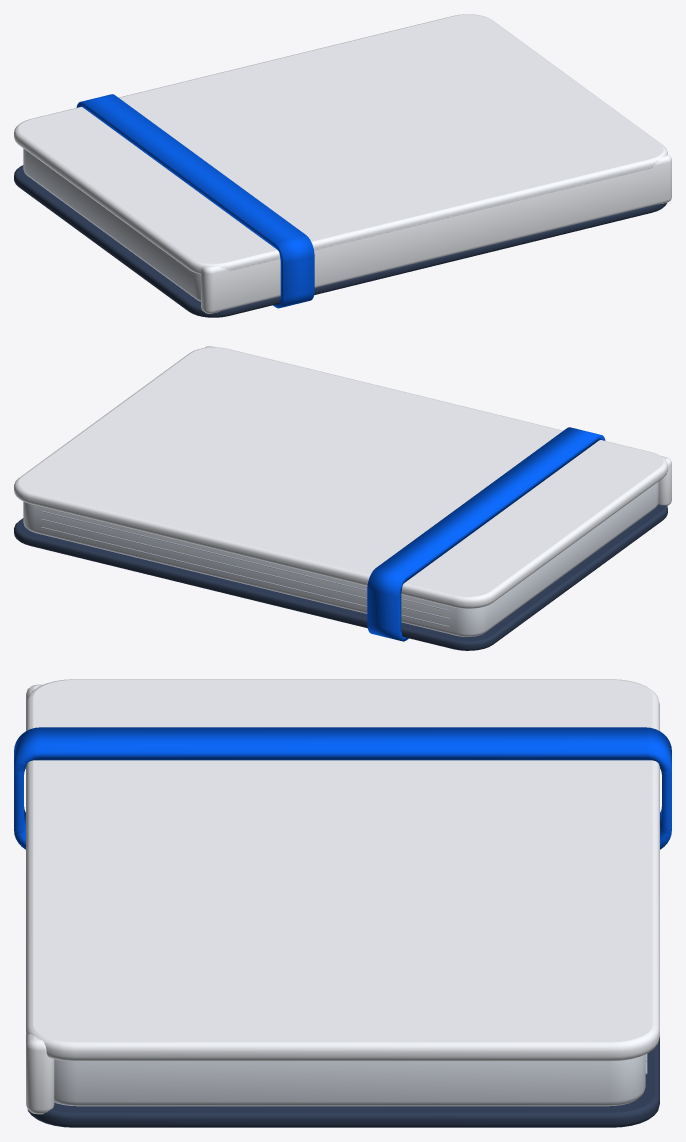
Rendered from 27-nodeworks-notebook.glb.
3 renders of one model, top to bottom at view 1: azimuth 30°, elevation 25°; view 2: azimuth 150°, elevation 25°; view 3: azimuth 270°, elevation 25°, orthographic. The views are drawn at different scales.
Parts seen in each view (by area): view 1: white_top_cover, white_bound_spine, continuous_blue_elastic_band, dark_bottom_cover, pale_page_block; view 2: white_top_cover, pale_page_block, dark_bottom_cover, continuous_blue_elastic_band, page_edge_line_1, page_edge_line_0, page_edge_line_2, white_bound_spine; view 3: white_top_cover, pale_page_block, continuous_blue_elastic_band, dark_bottom_cover, white_bound_spine.
Boxes of the visible parts, <box> form: white_top_cover: <box>14,14,667,274</box>; white_bound_spine: <box>201,153,671,313</box>; continuous_blue_elastic_band: <box>76,94,314,308</box>; dark_bottom_cover: <box>14,165,666,317</box>; pale_page_block: <box>23,148,200,301</box>; white_top_cover: <box>14,347,667,608</box>; pale_page_block: <box>23,481,658,636</box>; dark_bottom_cover: <box>14,504,667,650</box>; continuous_blue_elastic_band: <box>367,427,605,641</box>; page_edge_line_1: <box>41,518,449,618</box>; page_edge_line_0: <box>41,527,449,626</box>; page_edge_line_2: <box>41,510,449,610</box>; white_bound_spine: <box>205,346,671,505</box>; white_top_cover: <box>26,679,659,1061</box>; pale_page_block: <box>54,1054,645,1106</box>; continuous_blue_elastic_band: <box>14,727,671,849</box>; dark_bottom_cover: <box>27,1037,659,1127</box>; white_bound_spine: <box>26,684,54,1114</box>.
Bounding box in the file's own units: 0.216 × 0.028 × 0.163.
